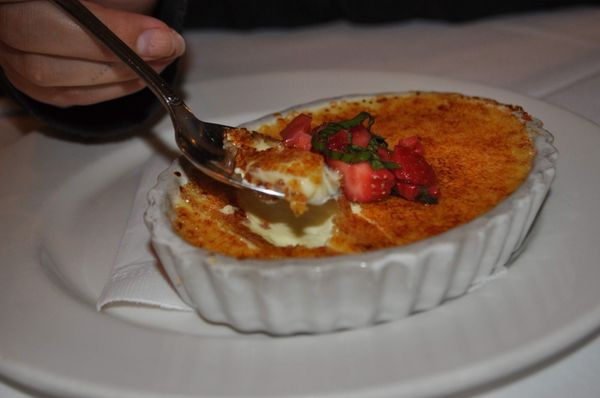soup: (157, 90, 542, 258)
